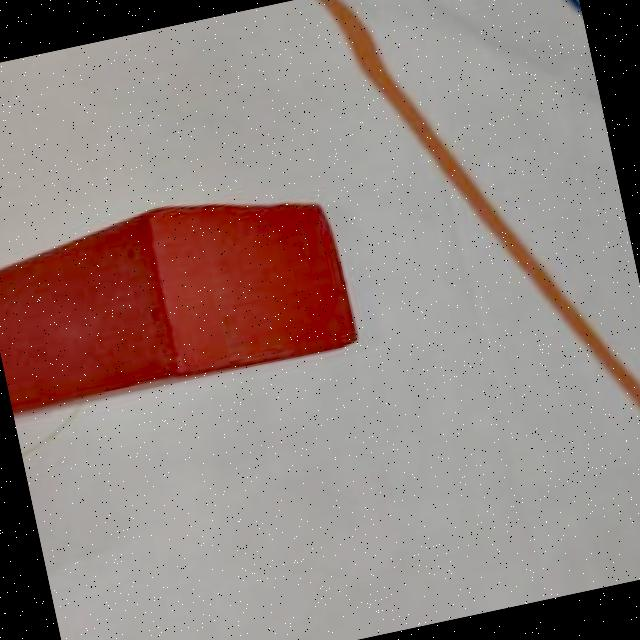redbox: (0, 170, 364, 418)
